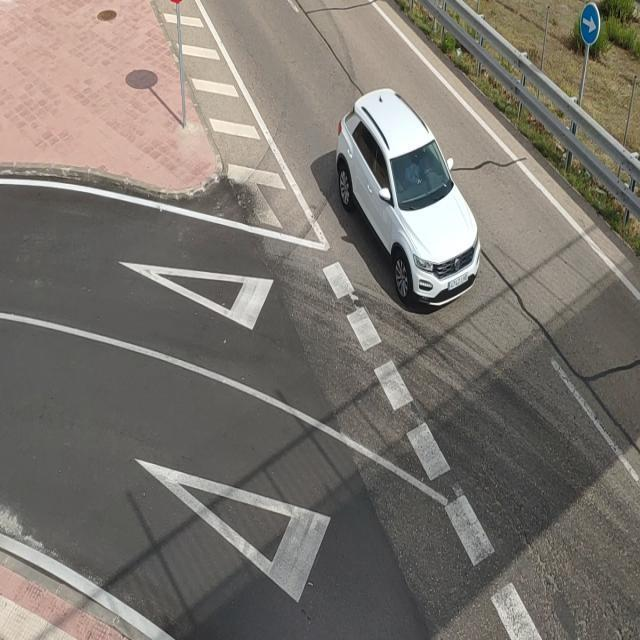Car: (327, 83, 486, 312)
